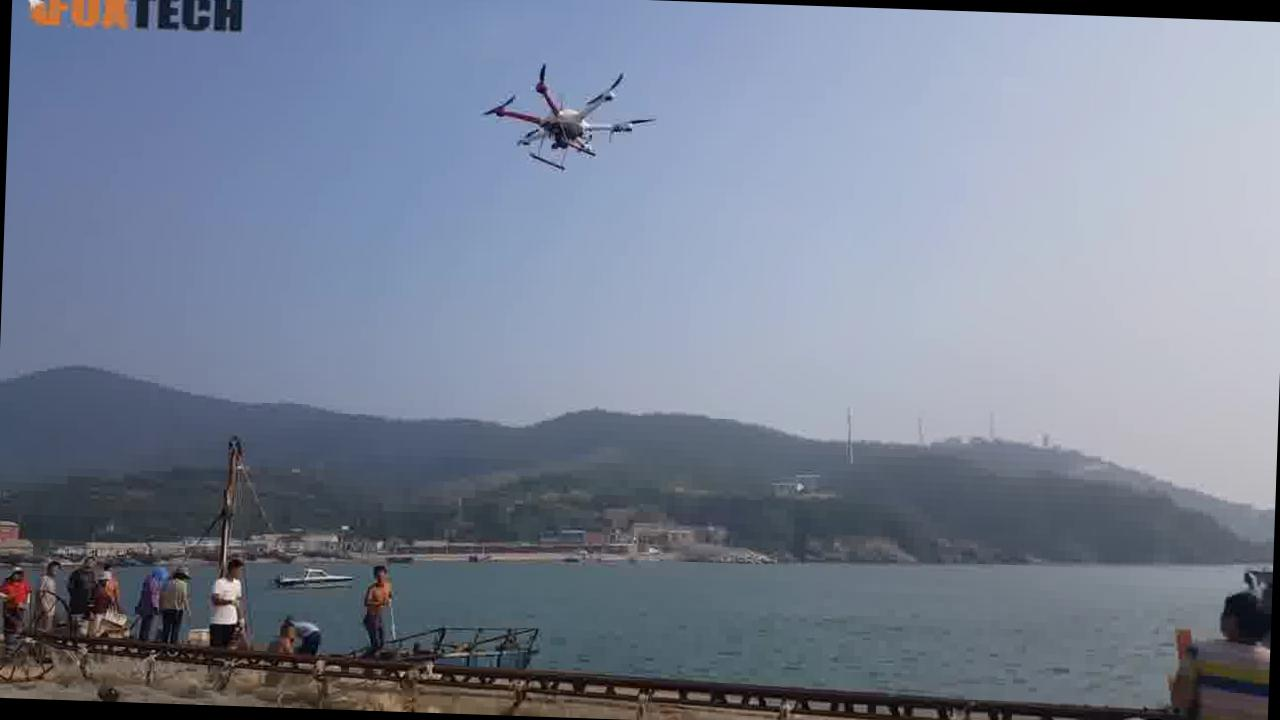drone: (480, 56, 650, 176)
